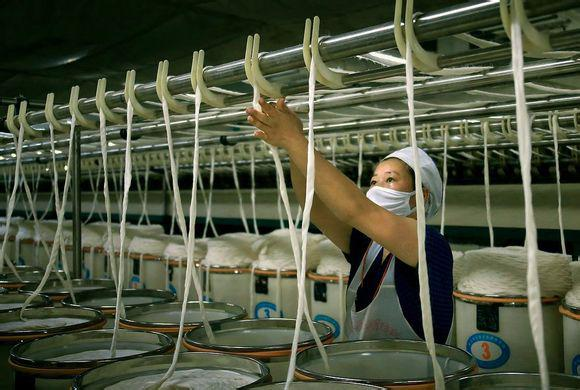OK: (366, 169, 413, 219)
